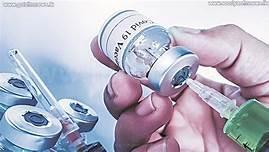Syringe: (95, 6, 198, 96)
